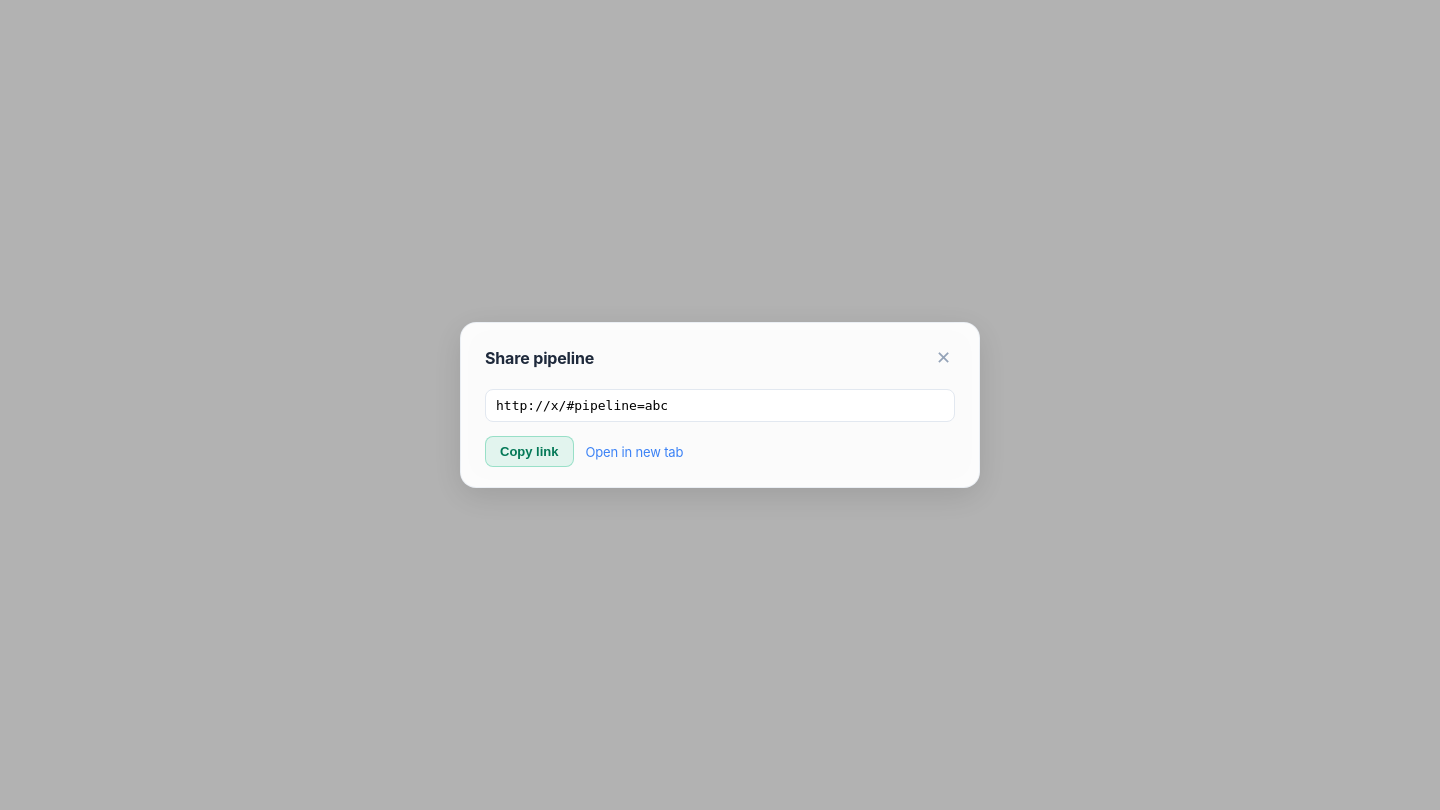
Test case: ShareDialog › shows 'Copy failed' when the copy function returns failed
Step 1. Click the button with test id "share-dialog-copy" → (529, 452), box top-left (485, 436), bottom-right (574, 467)
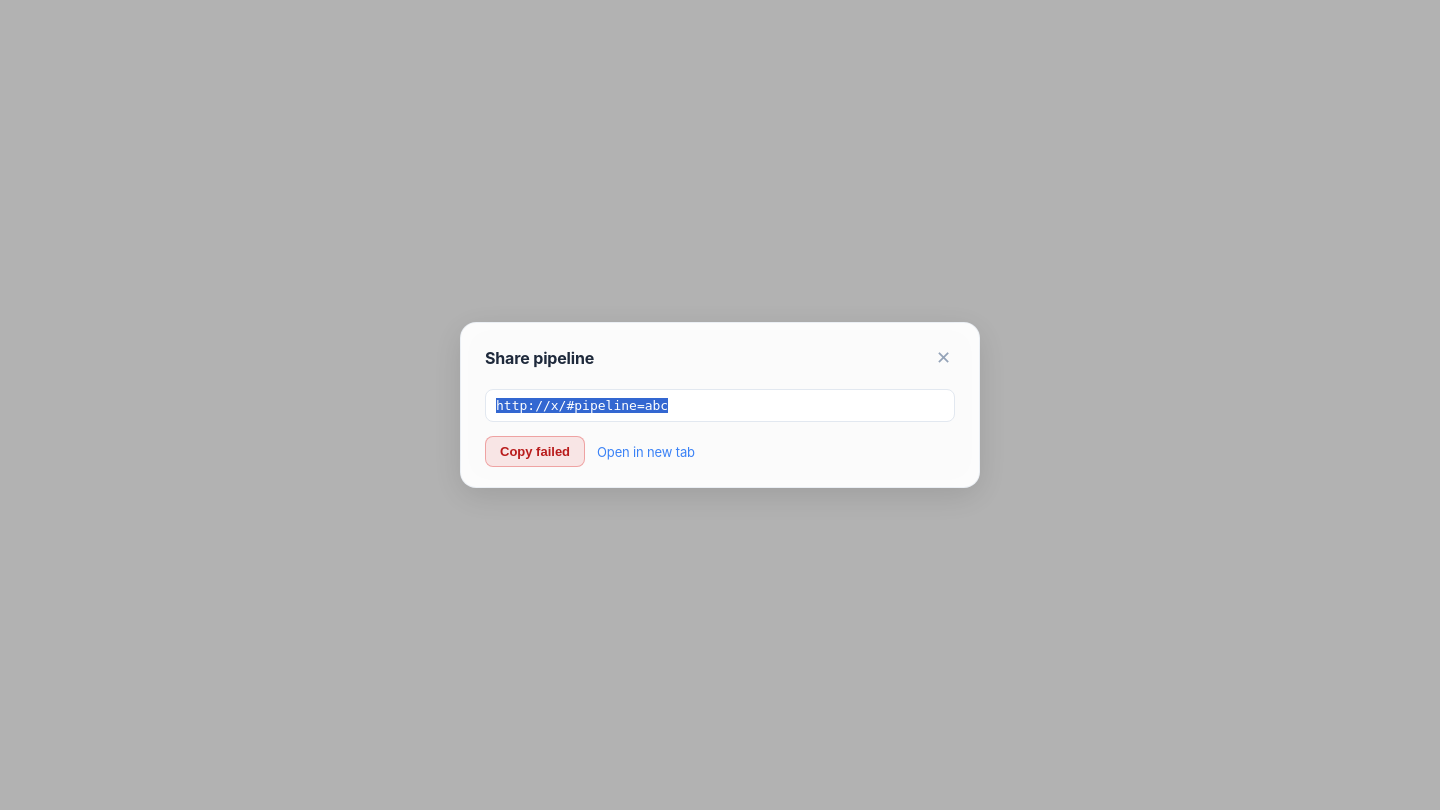
Now the button with test id "share-dialog-copy" reads "Copy failed", box top-left (485, 436), bottom-right (585, 467)
